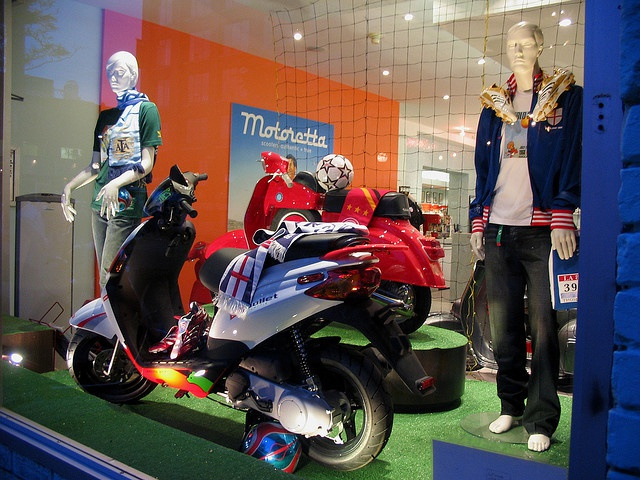non-vehicle: (61, 164, 437, 473), (183, 151, 448, 336), (423, 253, 577, 385)
